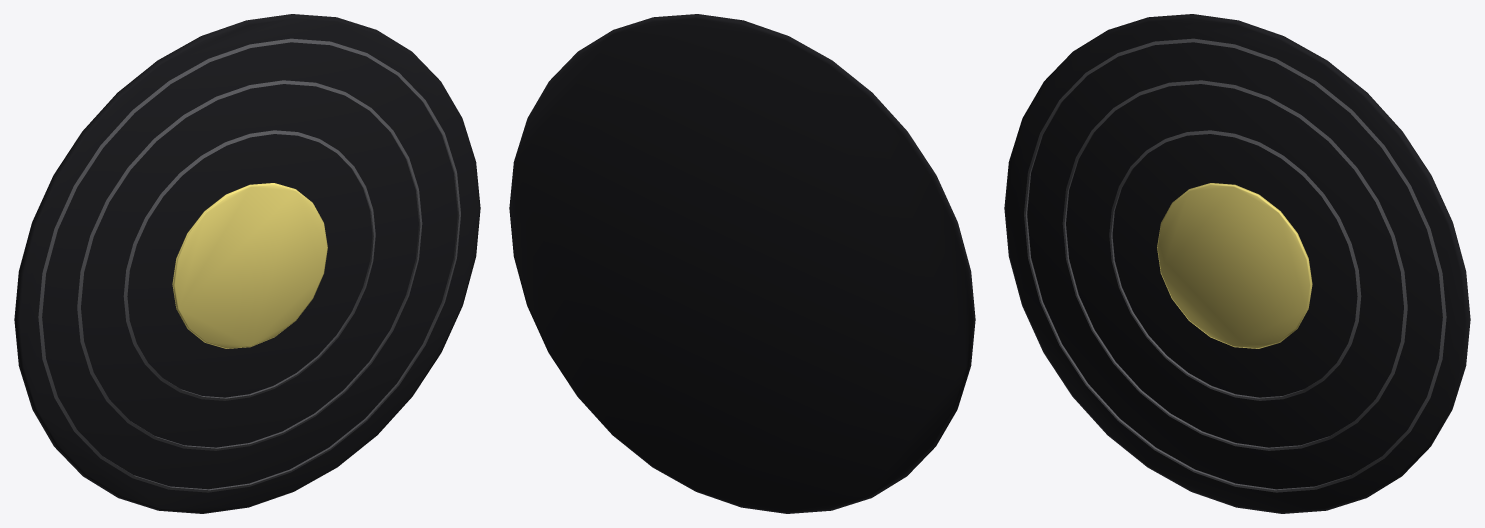
File: record_2.glb
3 views of the same model, side by side, from view 1: azimuth 30°, elevation 25°; view 2: azimuth 150°, elevation 25°; view 3: azimuth 330°, elevation 25° (orthographic).
Visible parts, largest first — view 1: Record, Record label, Groove shine; view 2: Record; view 3: Record, Record label, Groove shine.
Part boxes in pixels (x1=…): Record: x1=14, y1=14, x2=480, y2=513; Record label: x1=172, y1=183, x2=327, y2=348; Groove shine: x1=38, y1=38, x2=460, y2=492; Record: x1=509, y1=14, x2=975, y2=513; Record: x1=1004, y1=14, x2=1470, y2=513; Record label: x1=1157, y1=183, x2=1312, y2=348; Groove shine: x1=1024, y1=38, x2=1446, y2=492.
Size of the model in its own units: 0.3 by 0.3 by 0.006.
